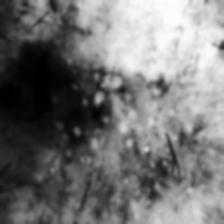Potentially Malignant Skin Tumors: (0, 45, 108, 136)
